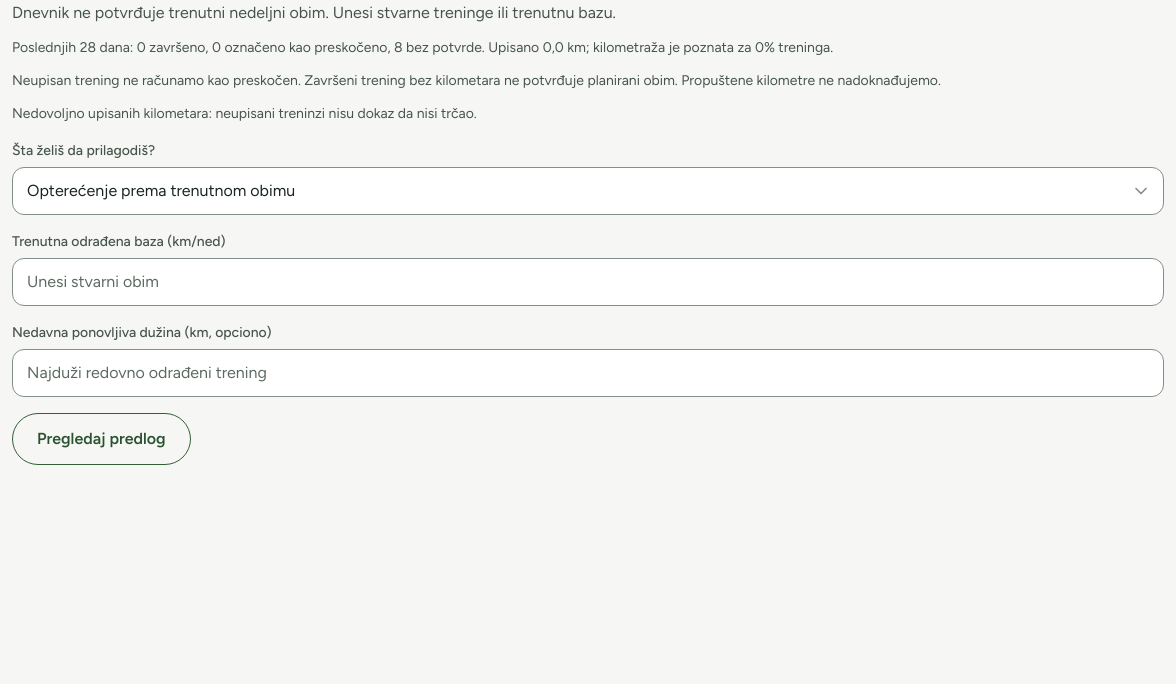
ExecutionAdjustment › izmena unosa poništava prethodni pregled; zastareo predlog prikazuje grešku
Type "30" into the number field labelled "Trenutna odrađena baza (km/ned)" at {"x": 588, "y": 282}, box [12,258,1164,306]
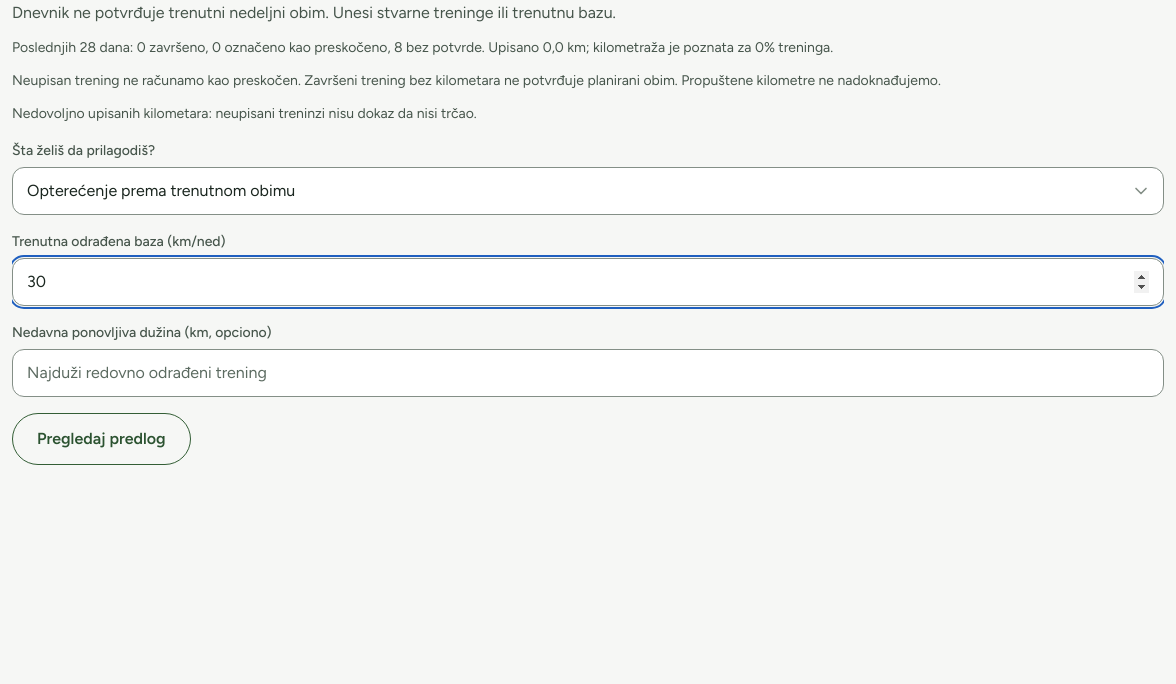
Click the button "Pregledaj predlog" at {"x": 101, "y": 439}, box [12,413,191,465]
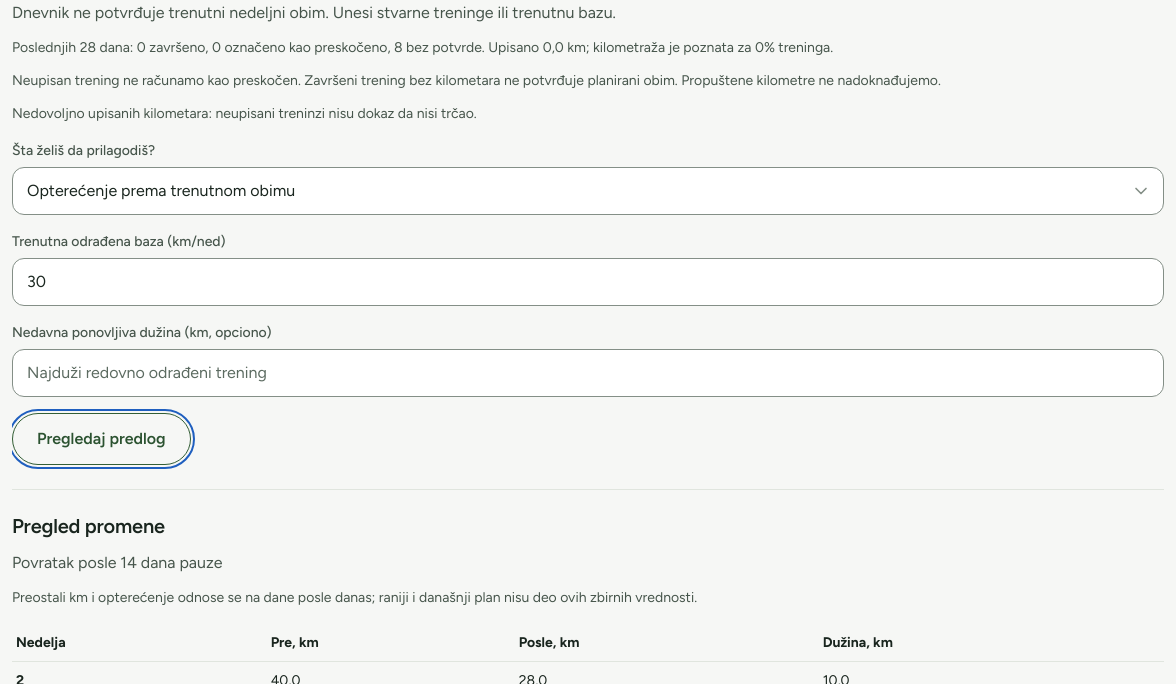
Type "10" into the number field labelled "Nedavna ponovljiva dužina (km, opciono)" at {"x": 588, "y": 373}, box [12,349,1164,397]
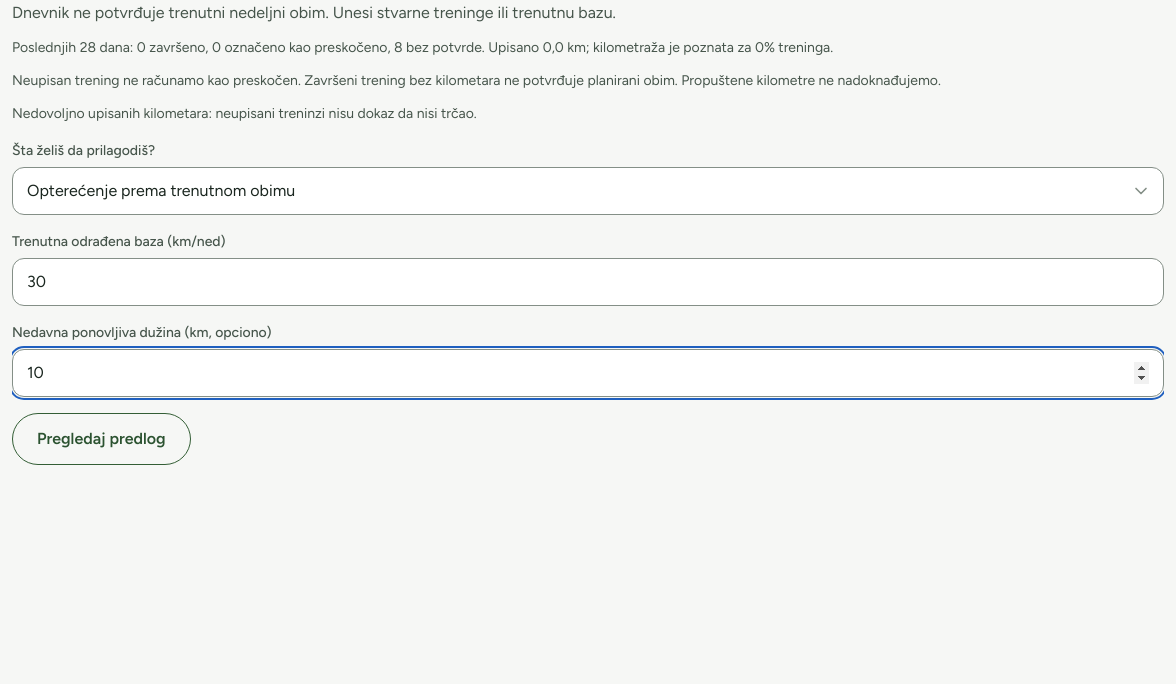
Click the button "Pregledaj predlog" at {"x": 101, "y": 439}, box [12,413,191,465]
(page scrolled)
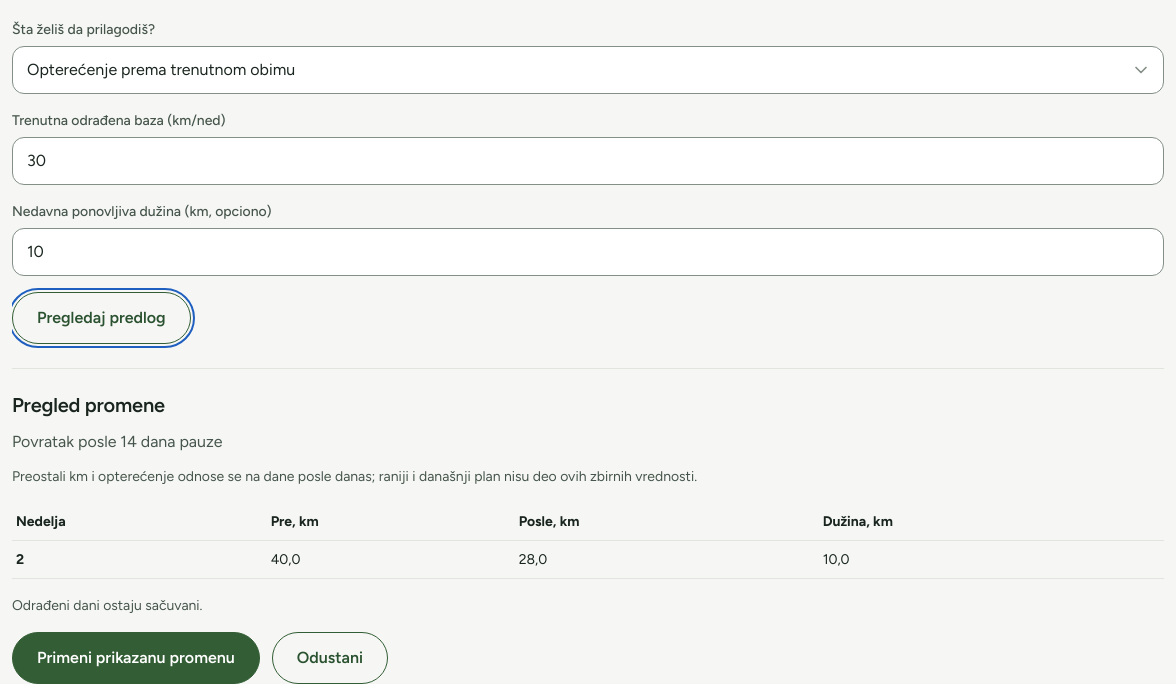
Click the button "Primeni prikazanu promenu" at {"x": 136, "y": 658}, box [12,632,260,683]
(page scrolled)
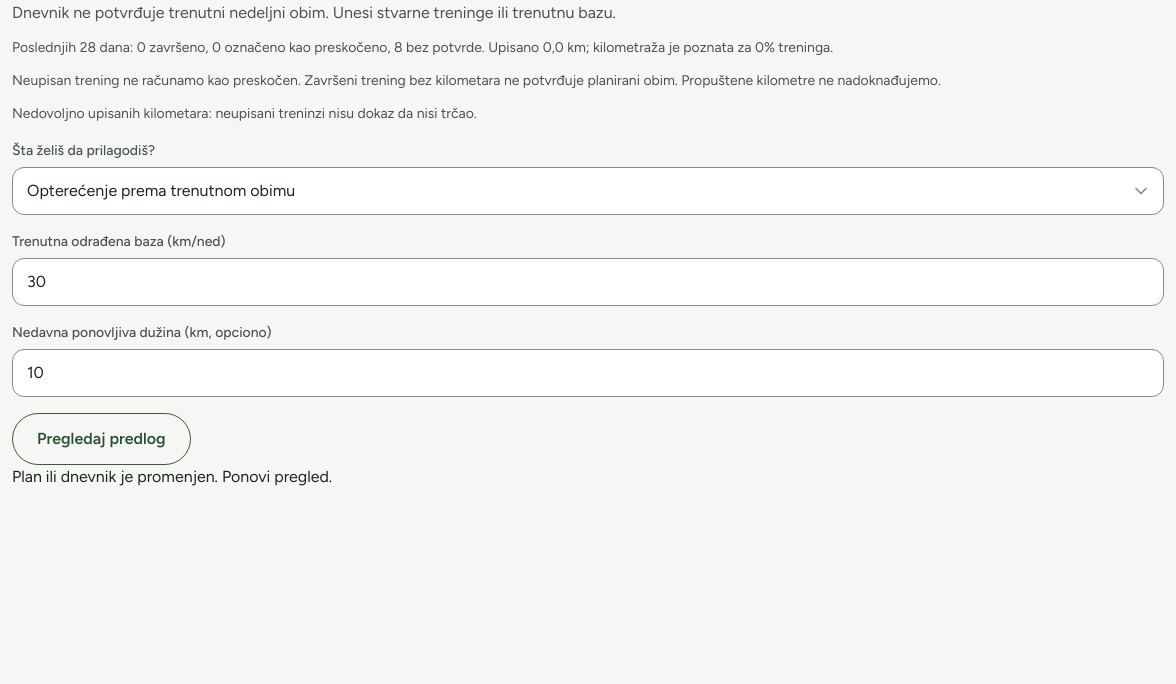
Result: the message shows "Plan ili dnevnik je promenjen" at [12,467,332,486]
